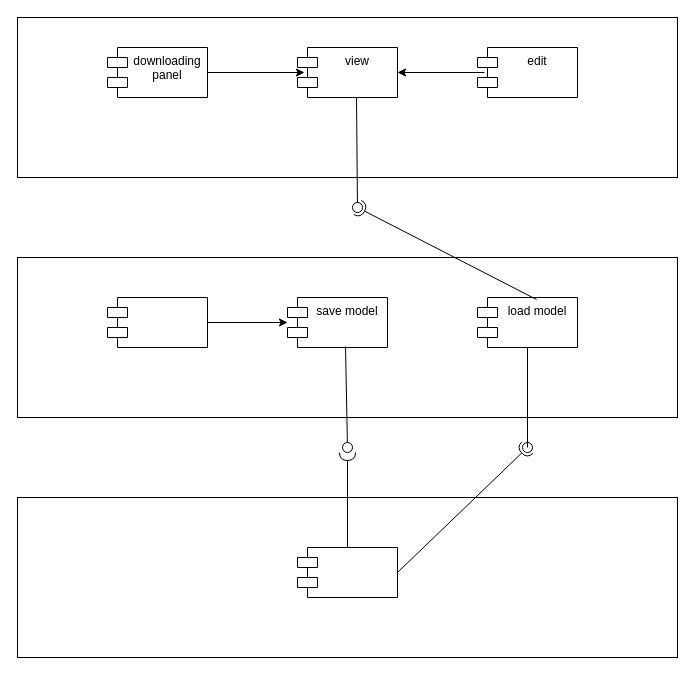
The diagram is 695 pixels wide and 675 high, and some of its shapes have lost their labels. The shapes that lost their labels are listed below. From the top down, each one's box as (x1, y1, x2, y2) in pixels, then its label:
(106, 296, 208, 348): create model
(296, 546, 398, 598): database
